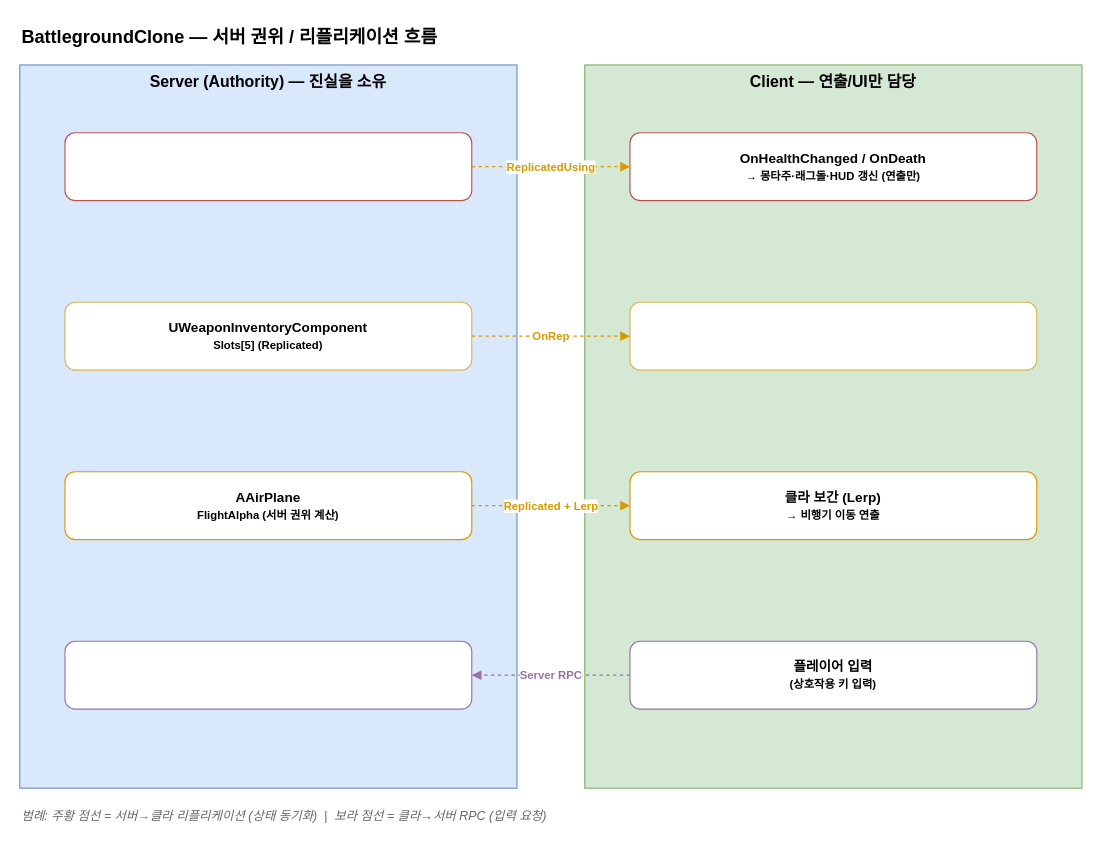
Some shapes in this 1102 by 852 pixel diagram are drawn without their labels. Here are the shapes that lost their labels. From the top down, the centre of each, then its label:
At [268,166]: "UHealthComponent Health, bDead (Replicated)".
At [833,335]: "OnInventoryChanged → 인벤토리 UI 갱신".
At [268,674]: "ServerInteract RPC 서버에서 판정 실행".
